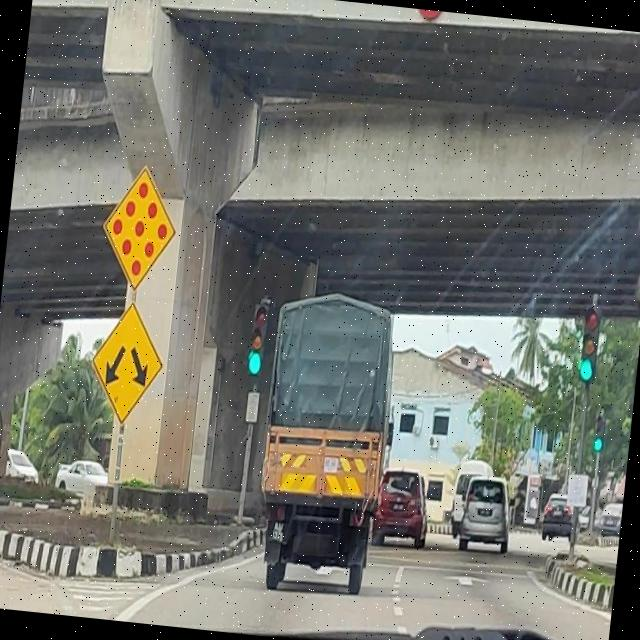green_light: (577, 302, 602, 382), (244, 300, 268, 377), (592, 412, 606, 452)
